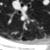node: (11, 2, 21, 11), (41, 1, 50, 6), (20, 16, 27, 22), (1, 2, 4, 6)
